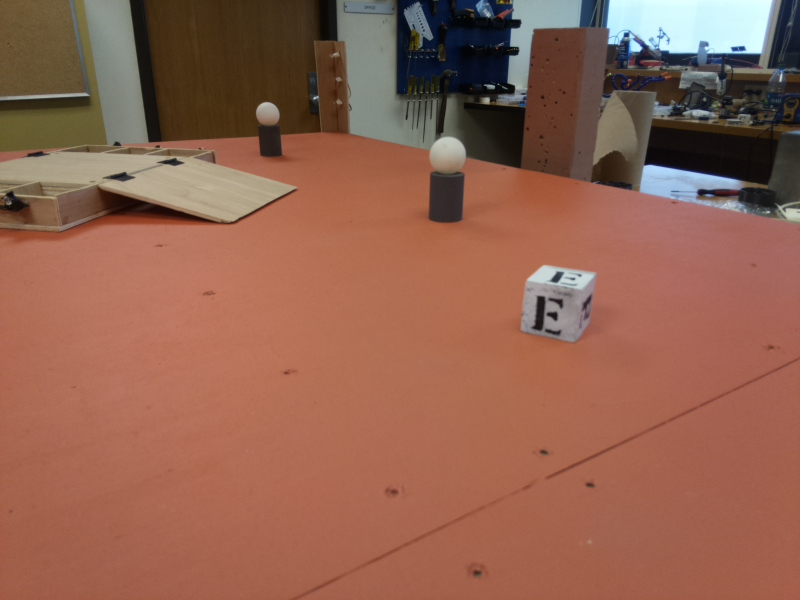blockE: (523, 261, 602, 346)
corner: (318, 41, 349, 133)
obstacle: (428, 133, 466, 225), (251, 99, 283, 160)
side: (1, 182, 83, 231)
slope: (95, 173, 299, 227)
